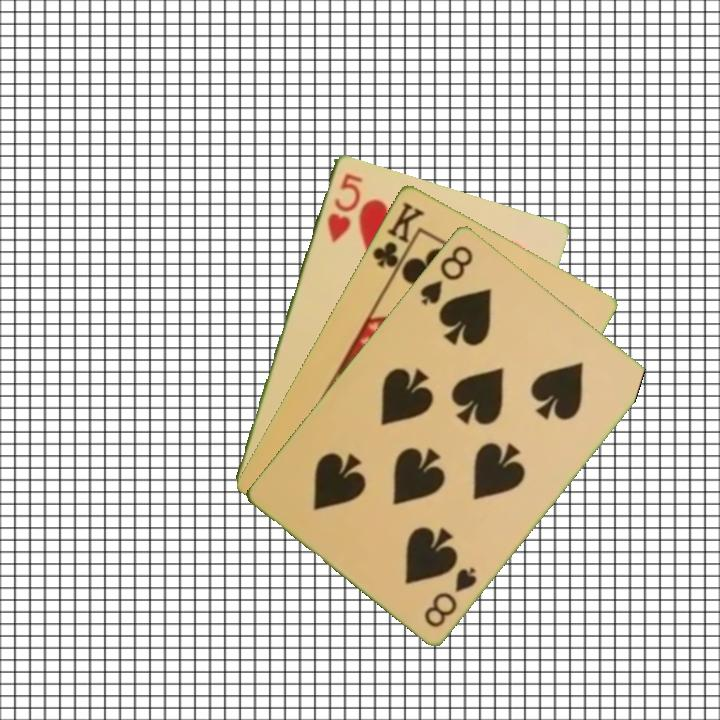5h: (323, 169, 365, 245)
8s: (420, 562, 480, 630), (416, 241, 476, 308)
Kc: (368, 197, 427, 280)
